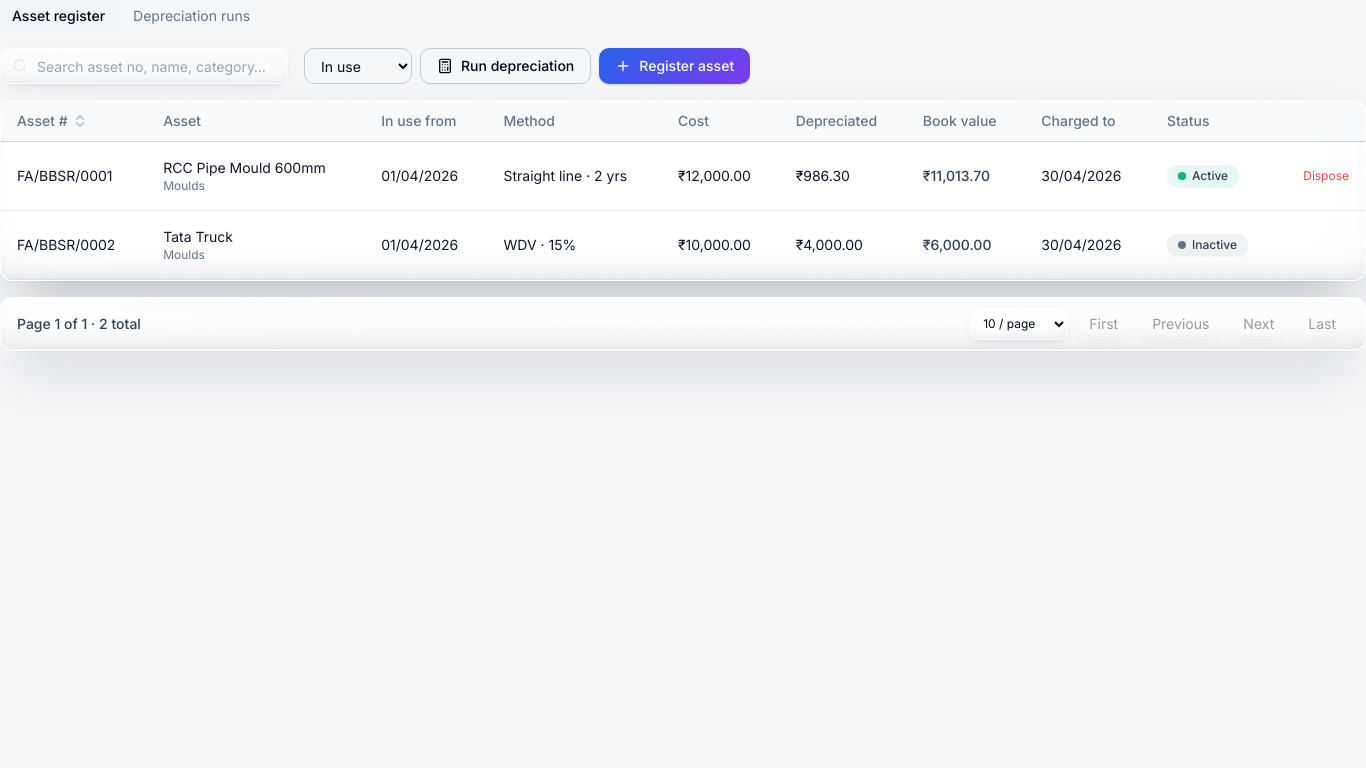
Test: Fixed Assets page › previews a depreciation run before anything posts
Click the button "Run depreciation" at (506, 66), box [420, 48, 591, 84]
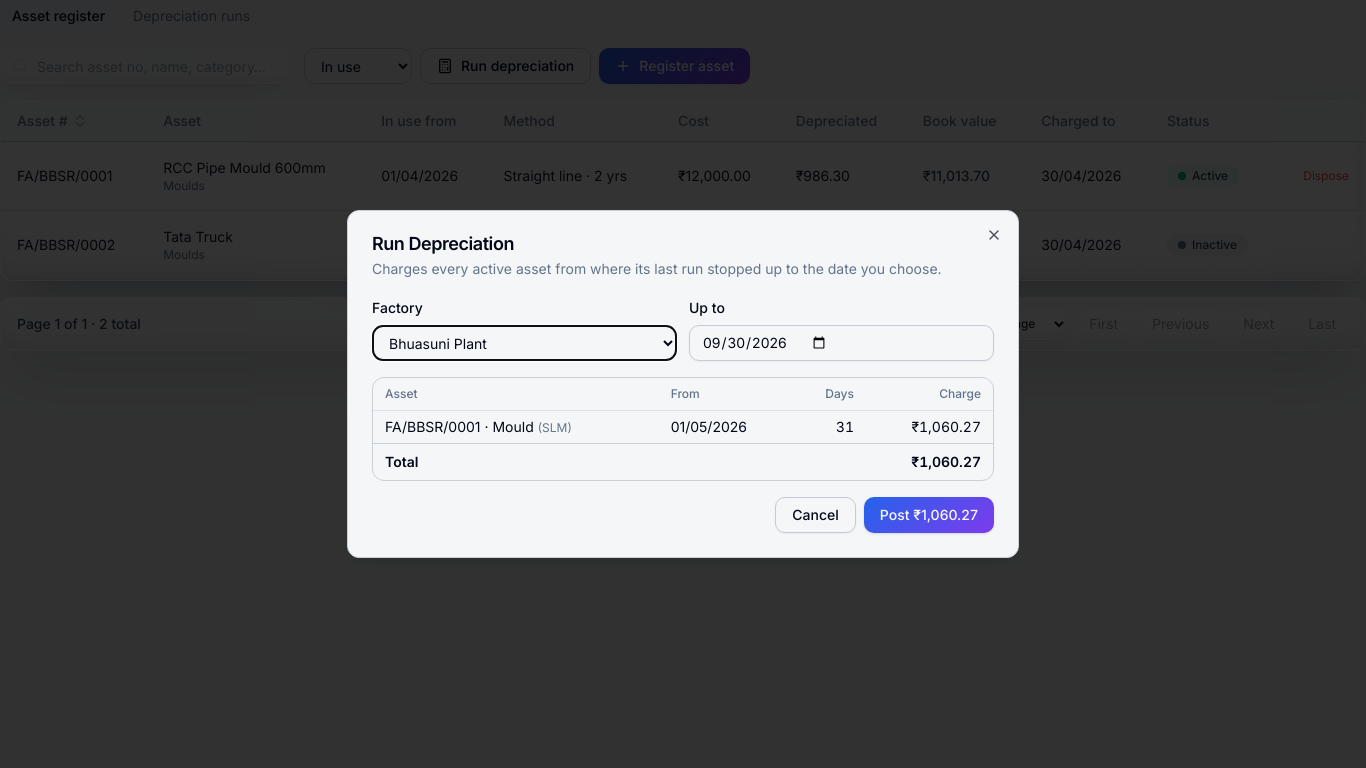
Check: the text "FA/BBSR/0001 · Mould (SLM)" is shown, box [373, 410, 659, 444]
Check: the button "Post ₹1,060.27" is enabled, box [864, 497, 994, 533]
